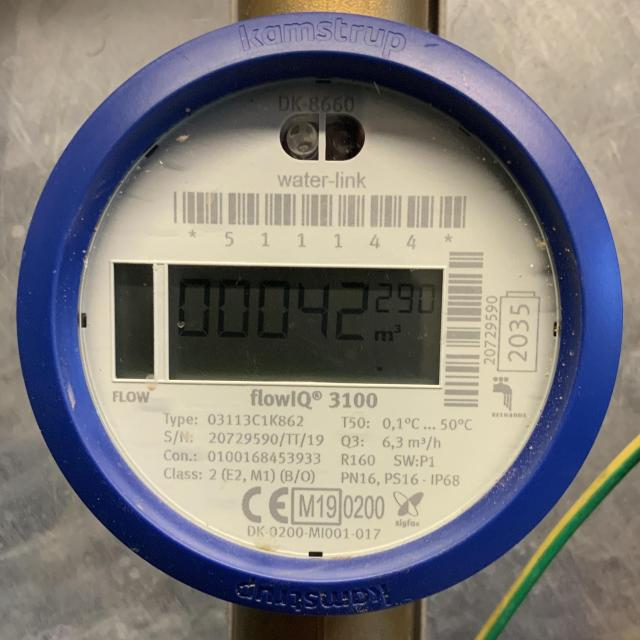gaz_meter: (82, 78, 563, 561)
indication: (164, 264, 441, 383)
